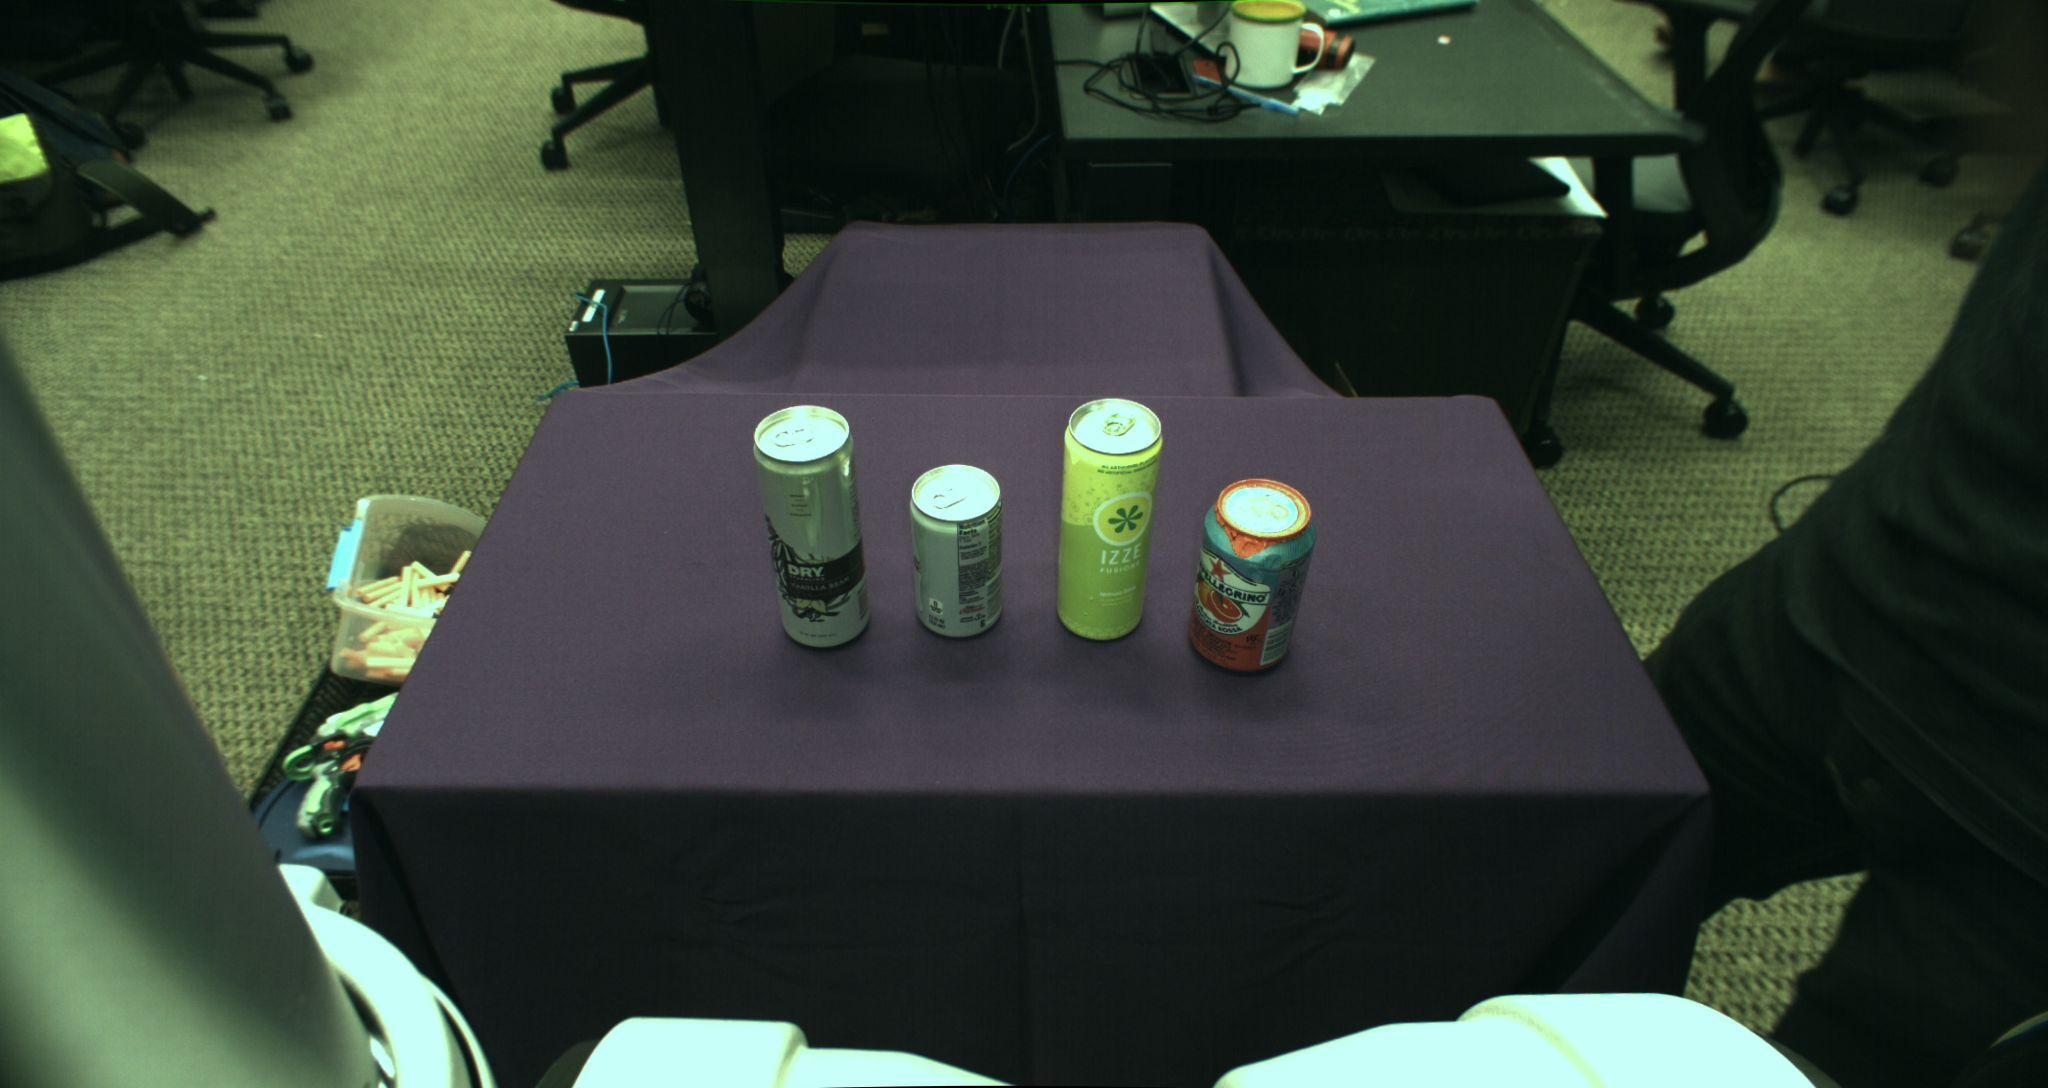can_diet_coke_small: (909, 463, 1002, 638)
can_dry_sparkling_vanilla_bean: (753, 402, 872, 649)
can_izze_fusions_lemon_lime: (1057, 396, 1164, 640)
can_sanpellegrino_blood_orange: (1189, 477, 1315, 671)
